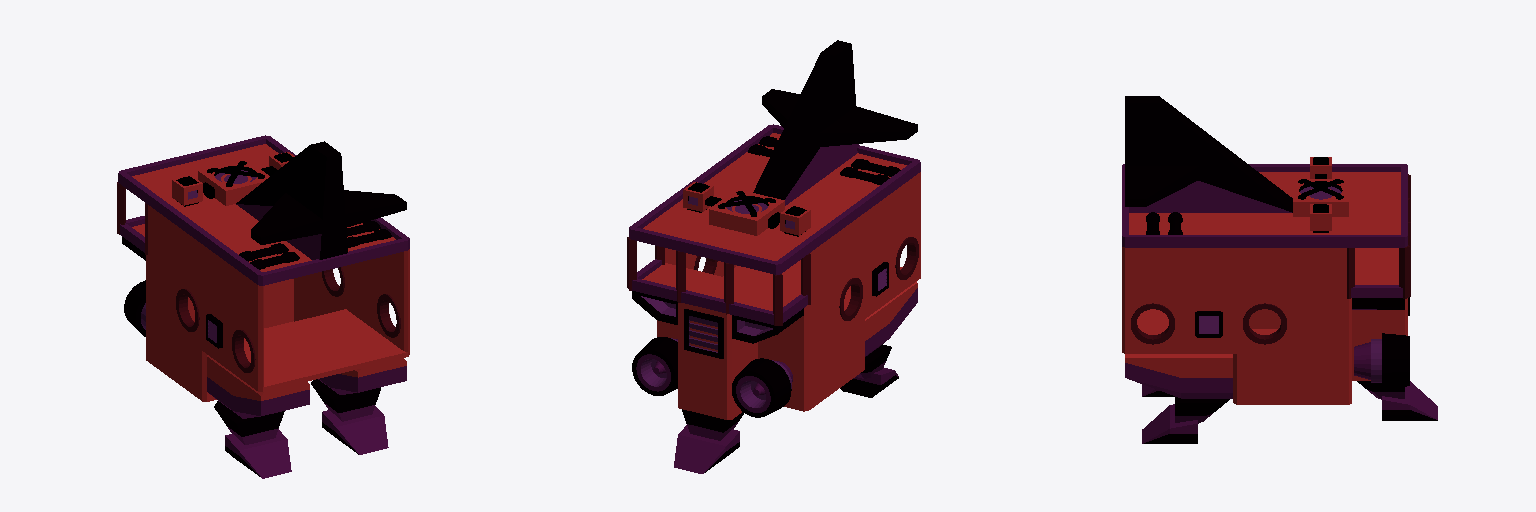
File: NuggetExterior.obj
3 views of the same model, side by side, from view 1: azimuth 30°, elevation 25°; view 2: azimuth 150°, elevation 25°; view 3: azimuth 270°, elevation 25° (orthographic).
Parts seen in each view (by area): view 1: mergedBlocks; view 2: mergedBlocks; view 3: mergedBlocks.
Boxes of the visible parts, box(x1,y1,x2,y2) form: mergedBlocks: box(117, 135, 409, 478); mergedBlocks: box(627, 40, 920, 473); mergedBlocks: box(1122, 96, 1437, 443).
Size of the model in its own units: 3.26 by 6.2 by 5.66.